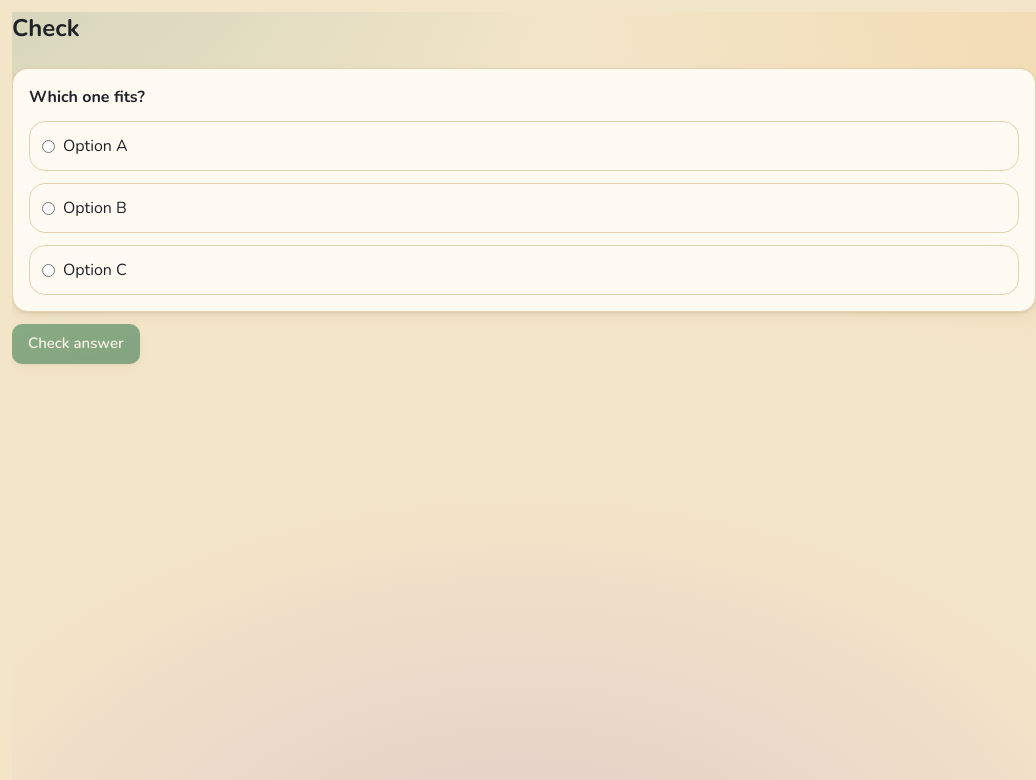
Scenario: CheckStep › keeps Check answer disabled until an option is picked
Expected: the heading "Check" is shown, x1=12 y1=12 x2=80 y2=44
Expected: the button "Check answer" is disabled, x1=12 y1=324 x2=140 y2=364
Click the radio button labelled "Option B": click(48, 208) x1=42 y1=202 x2=55 y2=214
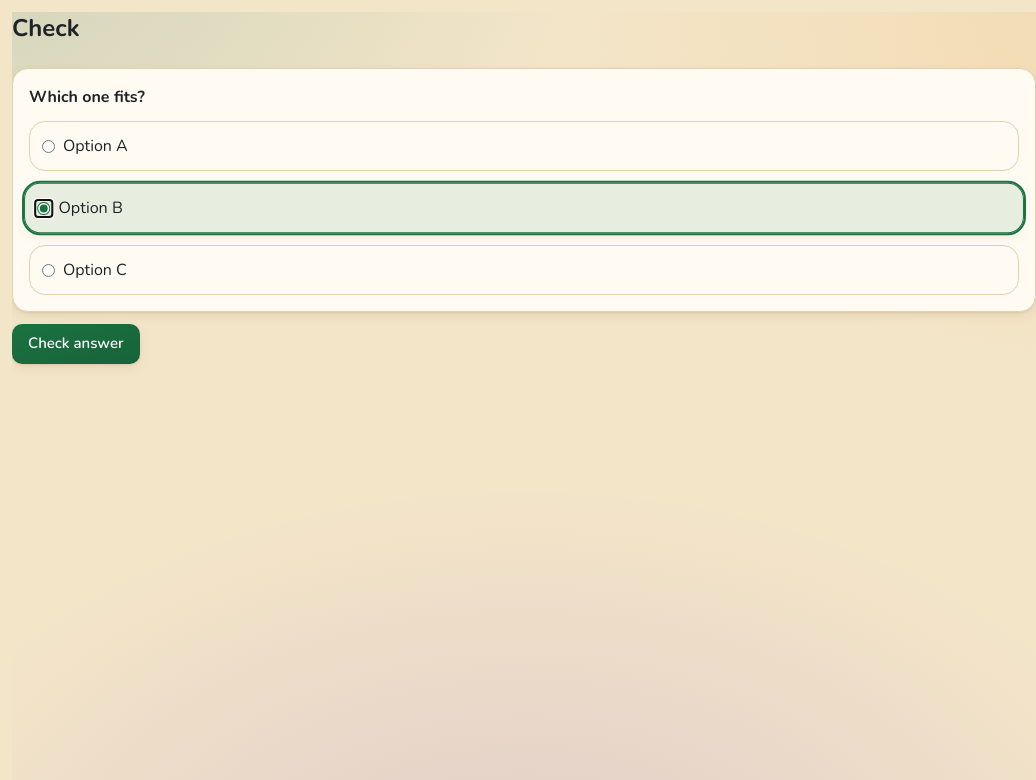
Expected: the button "Check answer" is enabled, x1=12 y1=324 x2=140 y2=364
